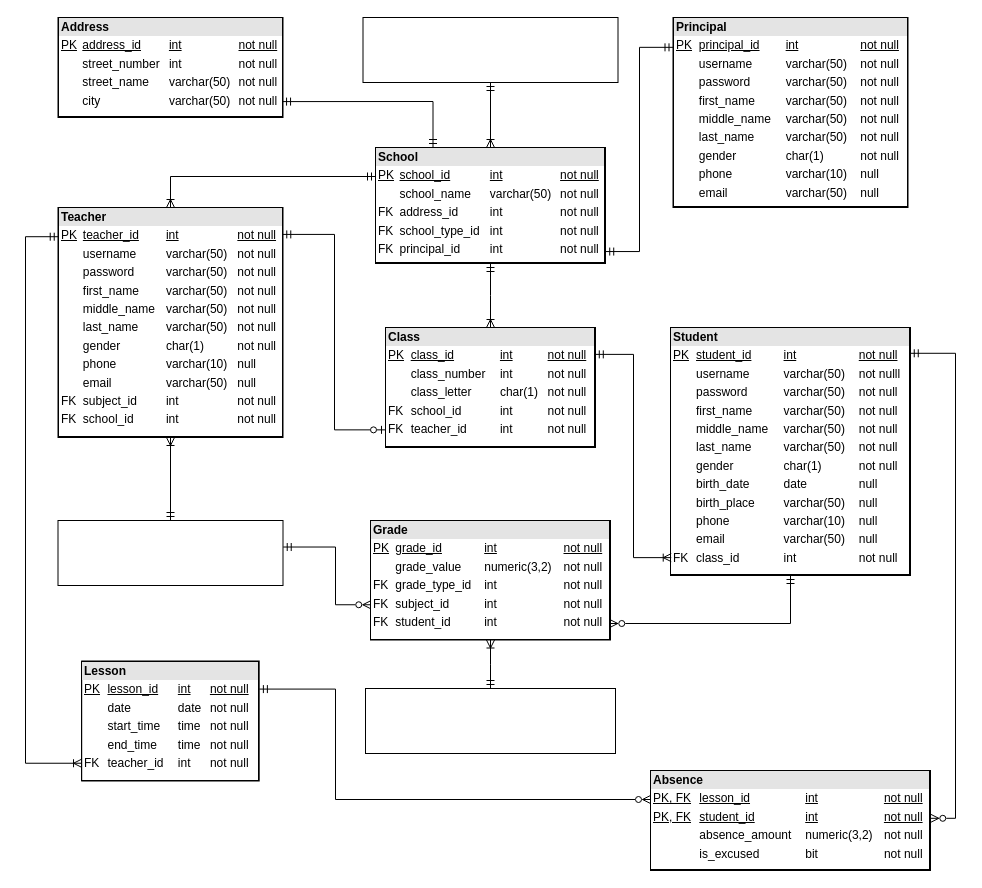
This 982x888 diagram has some shape labels left out. The shapes that lost their labels are listed below. From the top down, each one's box as (x1, y1, x2, y2) in pixels, then its label:
(362, 16, 618, 82): School_Type PK school_type_id int not null school_type_name varchar(50) not null
(57, 520, 283, 586): Subject PK subject_id int not null subject_name varchar(50) not null
(364, 688, 616, 754): Grade_Type PK grade_type_id int not null grade_type_name varchar(50) not null
